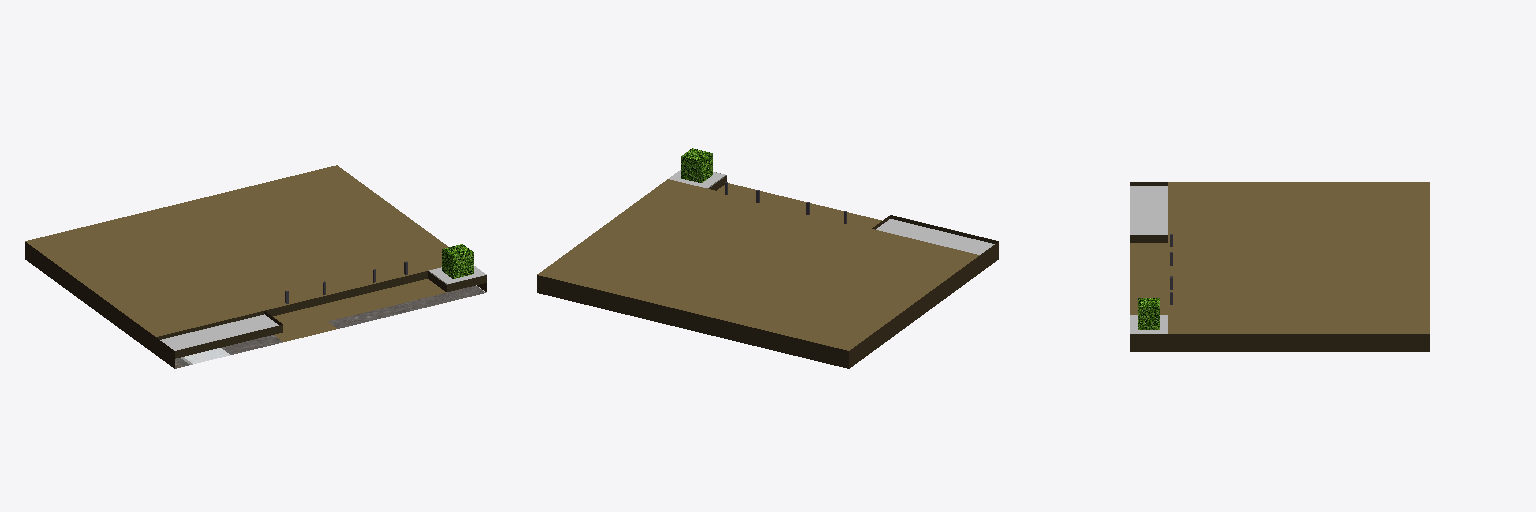
3 views of the same model, side by side, from view 1: azimuth 30°, elevation 25°; view 2: azimuth 150°, elevation 25°; view 3: azimuth 270°, elevation 25° (orthographic).
Visible parts, largest first — view 1: Cubo.008_Cubo.011; view 2: Cubo.008_Cubo.011; view 3: Cubo.008_Cubo.011.
Boxes of the visible parts, x1=… form: Cubo.008_Cubo.011: x1=25, y1=165, x2=486, y2=368; Cubo.008_Cubo.011: x1=537, y1=148, x2=998, y2=368; Cubo.008_Cubo.011: x1=1130, y1=182, x2=1429, y2=351.
Bounding box in the file's own units: 17.8 × 2.19 × 14.81.
Materials: 6 (2 with a texture image).